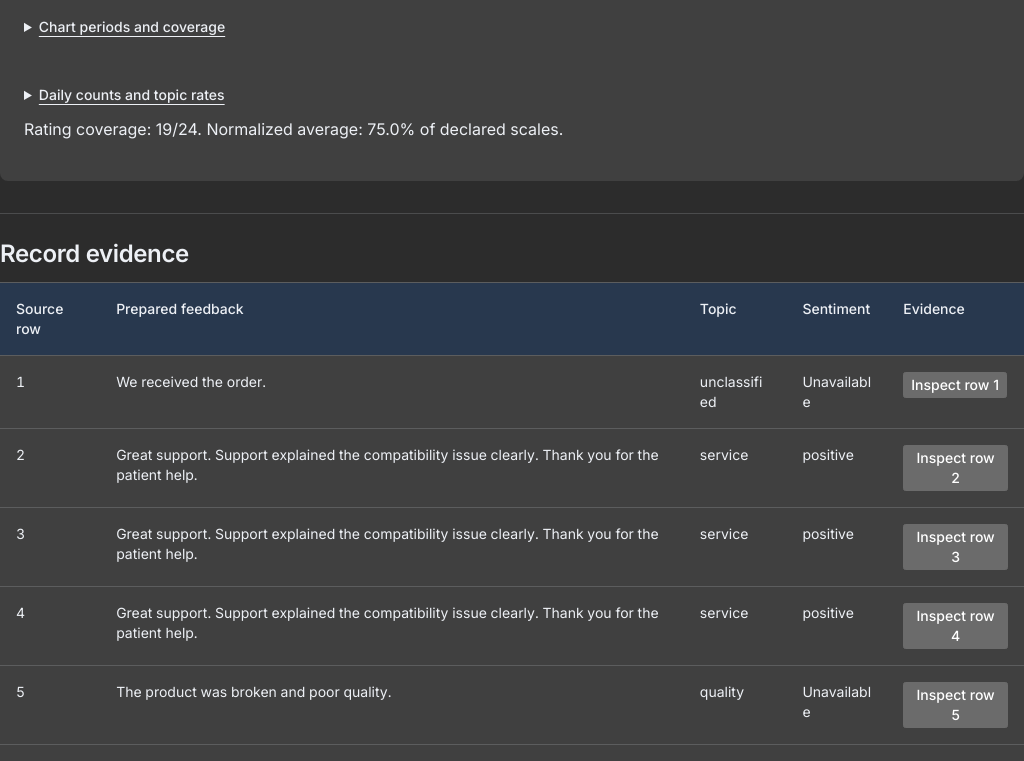
Workbench result inspection journey › drills a chart period into inclusive dates while keeping record provenance inspectable
The width and height of the screenshot is (1024, 761).
(page scrolled)
Click the button "Inspect row 1" at (955, 384), box [903,372,1007,398]
(page scrolled)
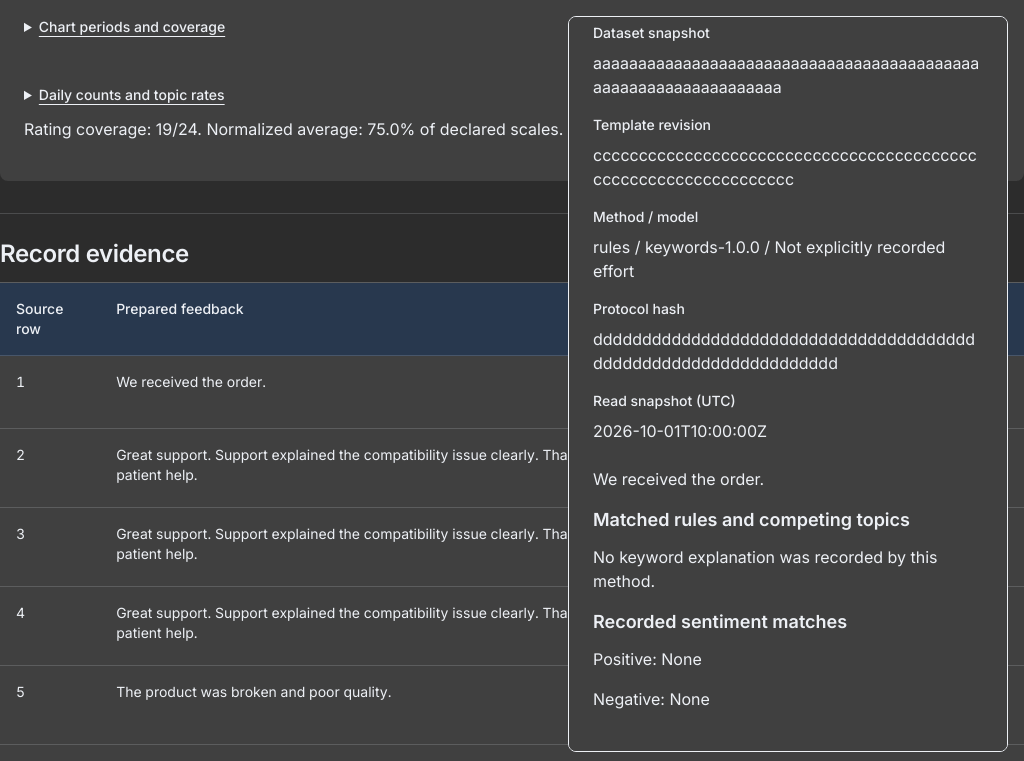
expect the heading "Recorded sentiment matches" is shown: met, box [593,611,847,632]
Press Escape
(page scrolled)
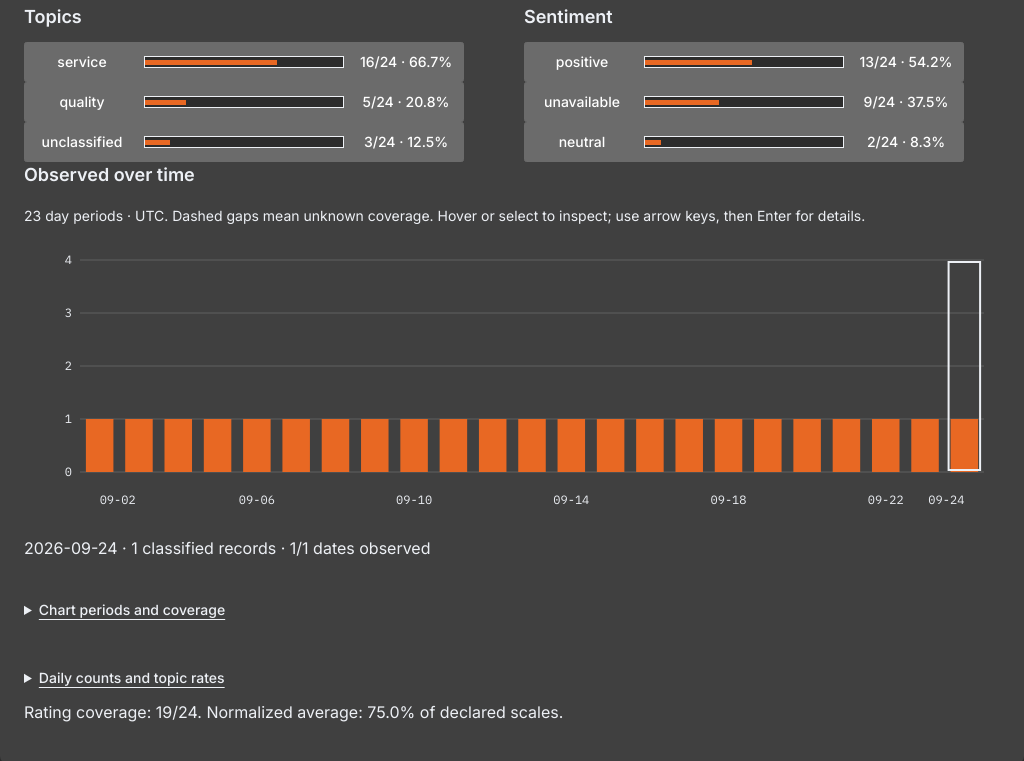
Press Home in the button named "Inspect observed record volume", box [24,244,1000,524]
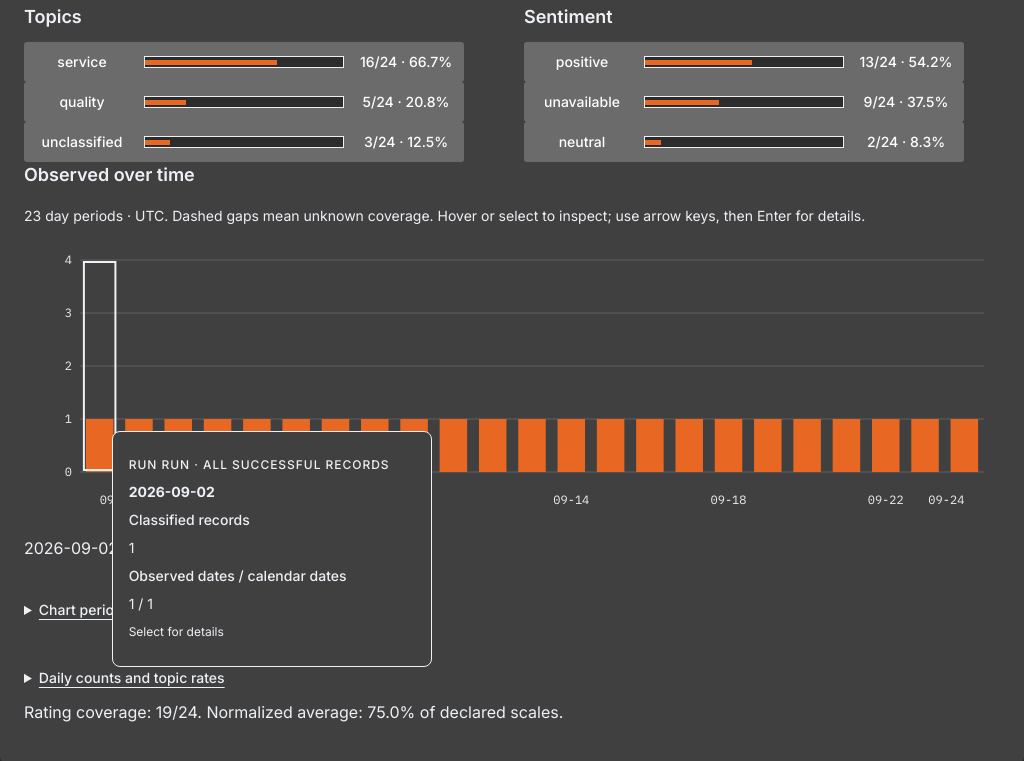
Press Enter in the button named "Inspect observed record volume", box [24,244,1000,524]
(page scrolled)
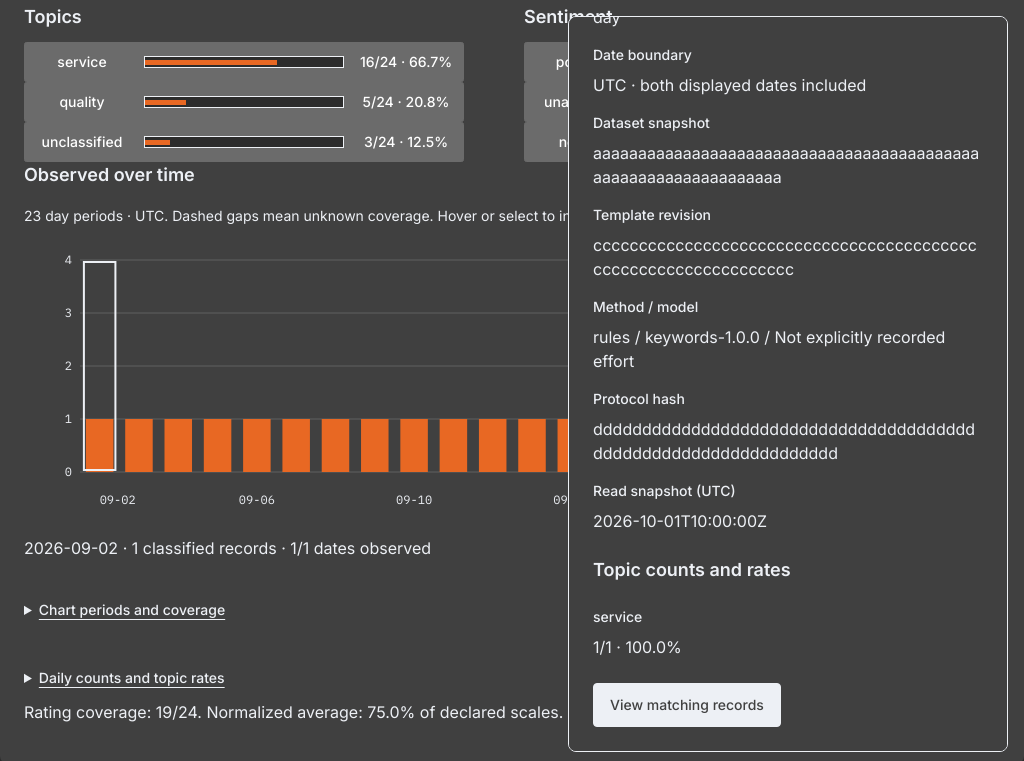
Click the button "View matching records" at (687, 705), box [593,683,781,727]
(page scrolled)
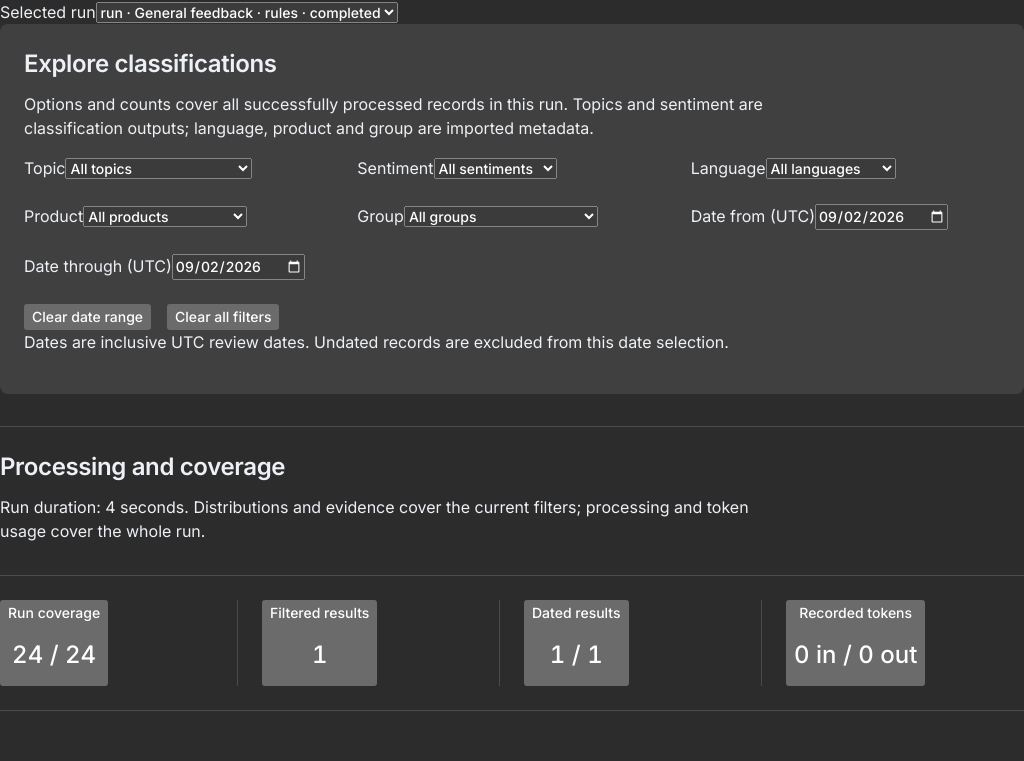
expect the date field labelled "Date from (UTC)" holds "2026-09-02": met, box [815,204,948,230]
expect the date field labelled "Date through (UTC)" holds "2026-09-02": met, box [172,254,305,280]
